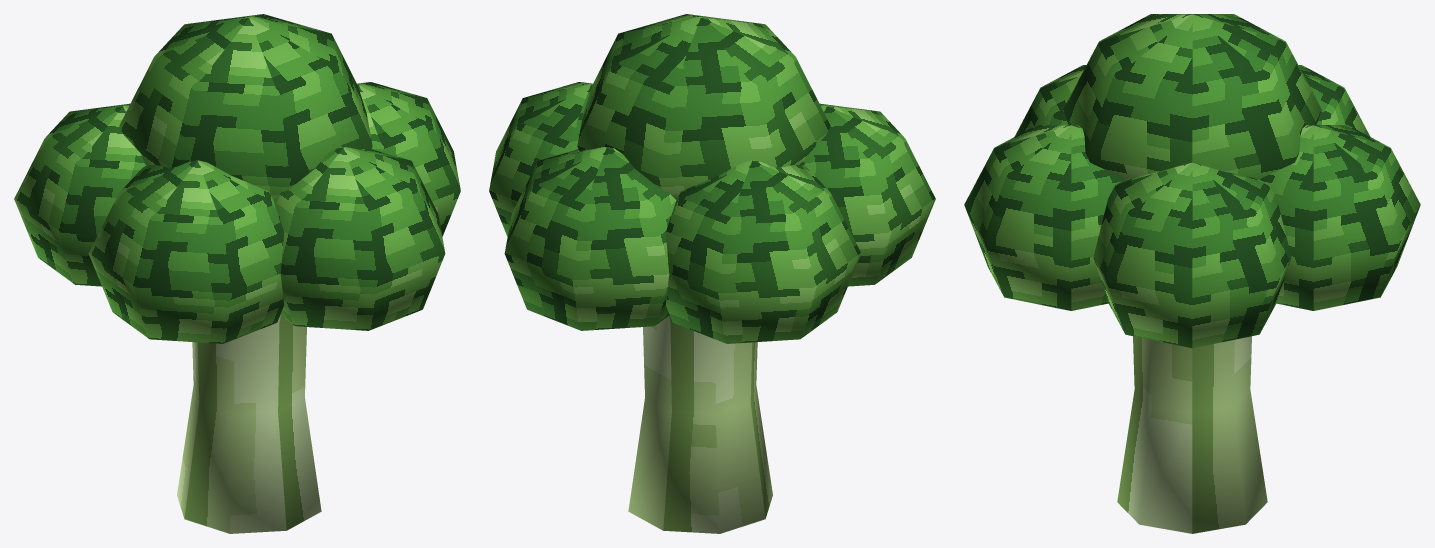
File: produce-broccoli.glb
3 views of the same model, side by side, from view 1: azimuth 30°, elevation 25°; view 2: azimuth 150°, elevation 25°; view 3: azimuth 270°, elevation 25° (orthographic).
Visible parts, largest first — view 1: produce.broccoli; view 2: produce.broccoli; view 3: produce.broccoli.
Boxes of the visible parts, <box> form: produce.broccoli: <box>14,14,460,533</box>; produce.broccoli: <box>489,14,935,533</box>; produce.broccoli: <box>964,14,1420,533</box>.
Size of the model in its own units: 1.56 by 1.93 by 1.62.
Materials: 2 (2 with a texture image).
